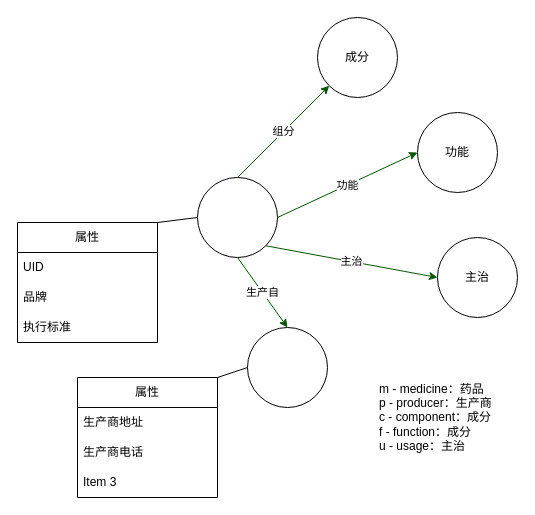
Some shapes in this 535 by 515 pixel diagram are drawn without their labels. Each missing label, with the centre of its shape:
"生产商" goes at pixel 287 367.
"药品" goes at pixel 237 217.
